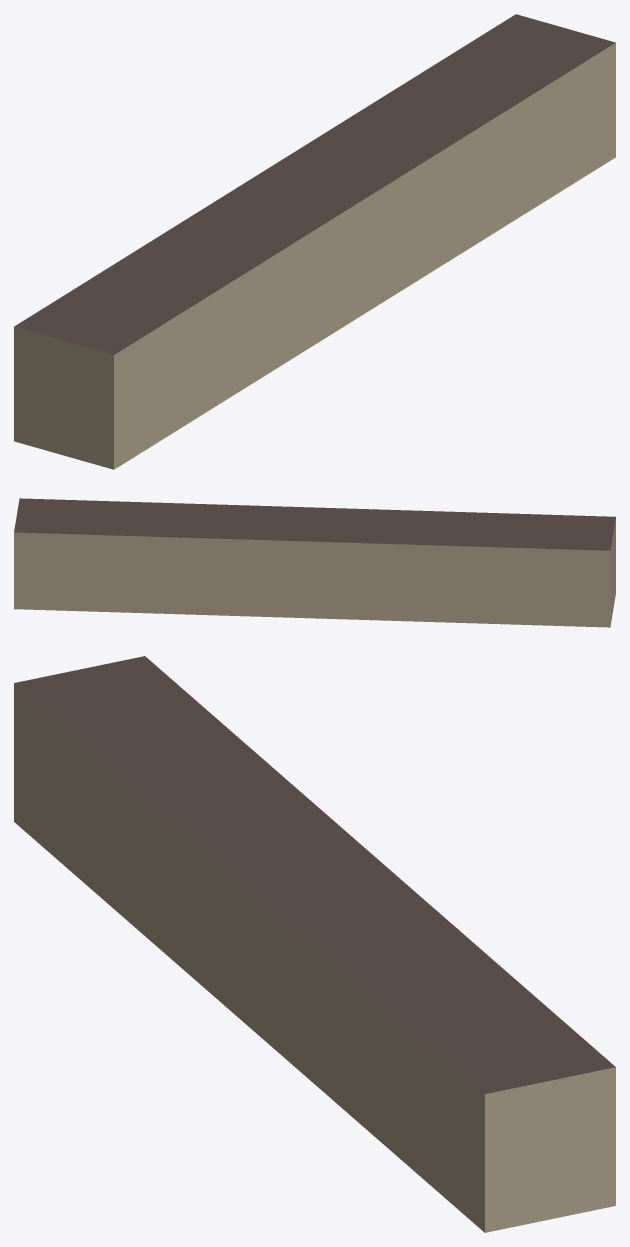
The picture shows the model from 3 angles, top to bottom: view 1: azimuth 30°, elevation 25°; view 2: azimuth 150°, elevation 25°; view 3: azimuth 270°, elevation 25°; orthographic projection. The views are drawn at different scales.
Parts seen in each view (by area): view 1: HP-w372180412; view 2: HP-w372180412; view 3: HP-w372180412.
Part boxes in pixels (x1,y1,x2,y2): HP-w372180412: (14,14,615,469); HP-w372180412: (14,498,615,627); HP-w372180412: (14,656,615,1232).
Size of the model in its own units: 60.95 by 9 by 35.39.
